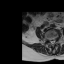CCS_normal: (51, 37, 53, 46)
LFS_normal: (54, 37, 56, 42)
LLS_normal: (53, 37, 54, 44)
RFS_stenosis: (48, 37, 50, 43)
RLS_normal: (50, 38, 51, 44)
